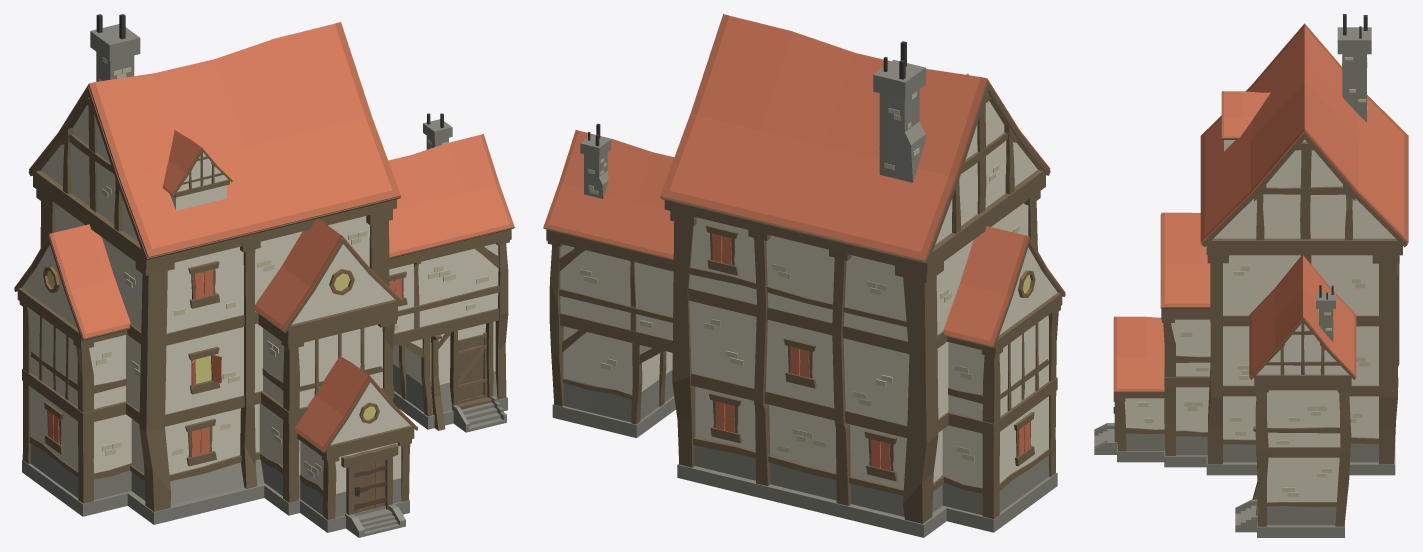
Rendered from House_14.fbx.
3 renders of one model, left to right at view 1: azimuth 30°, elevation 25°; view 2: azimuth 150°, elevation 25°; view 3: azimuth 270°, elevation 25°, orthographic. The views are drawn at different scales.
Visible parts, largest first — view 1: House_14; view 2: House_14; view 3: House_14.
Part boxes in pixels (x1=…): House_14: x1=14, y1=14, x2=514, y2=537; House_14: x1=543, y1=14, x2=1065, y2=537; House_14: x1=1094, y1=14, x2=1408, y2=537.
Size of the model in its own units: 262 by 253 by 189.
Materials: 1 (1 with a texture image).
